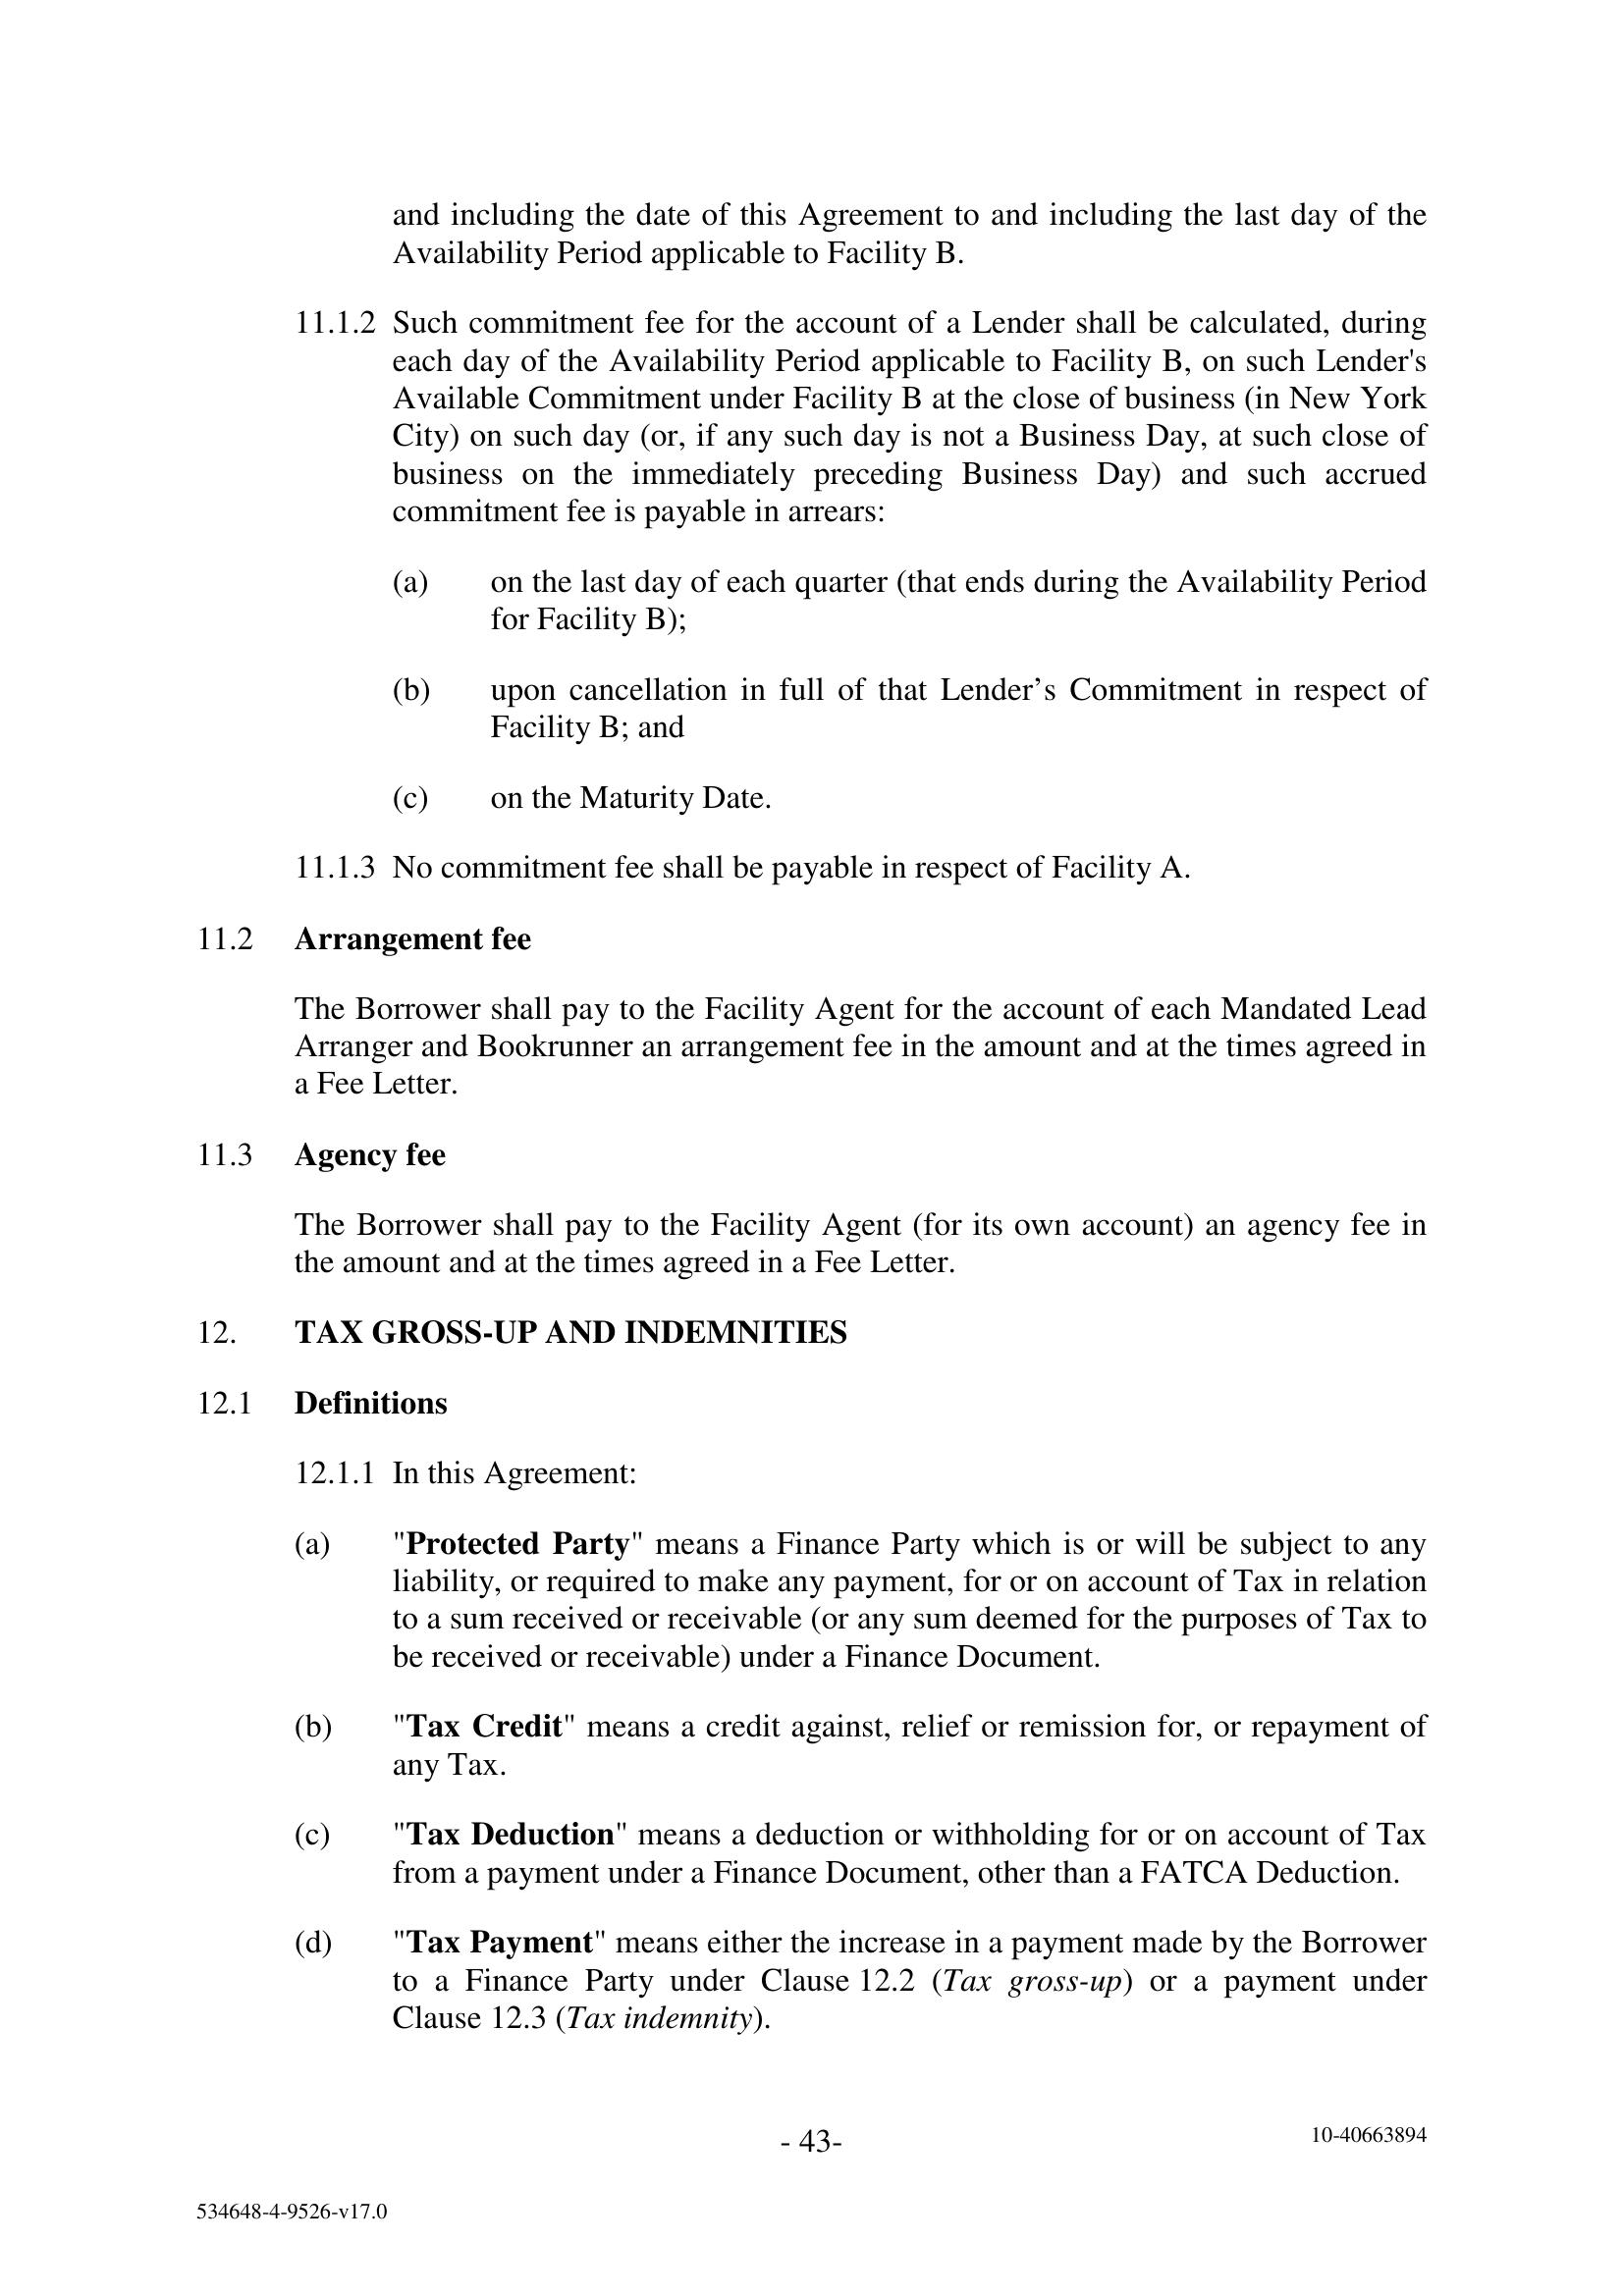pageno: (724, 2082, 906, 2210)
tag: (126, 2154, 462, 2270), (1214, 2085, 1519, 2194)
